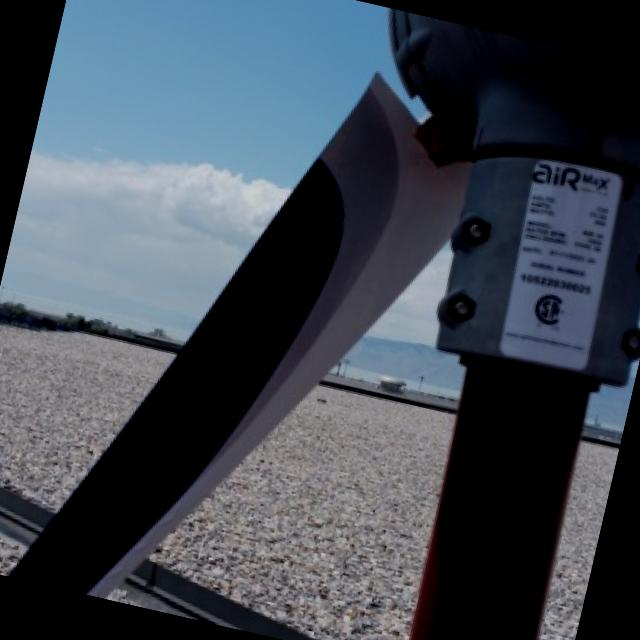healthy: (32, 0, 398, 182)
